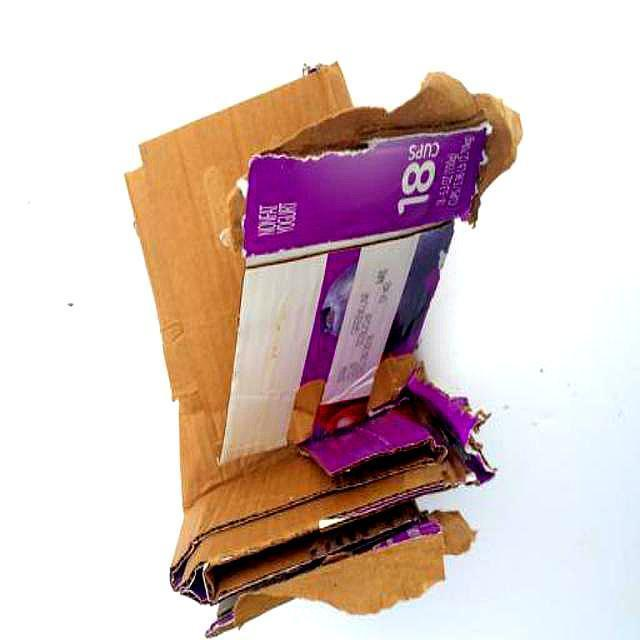Biodegradable: (121, 61, 527, 640)
